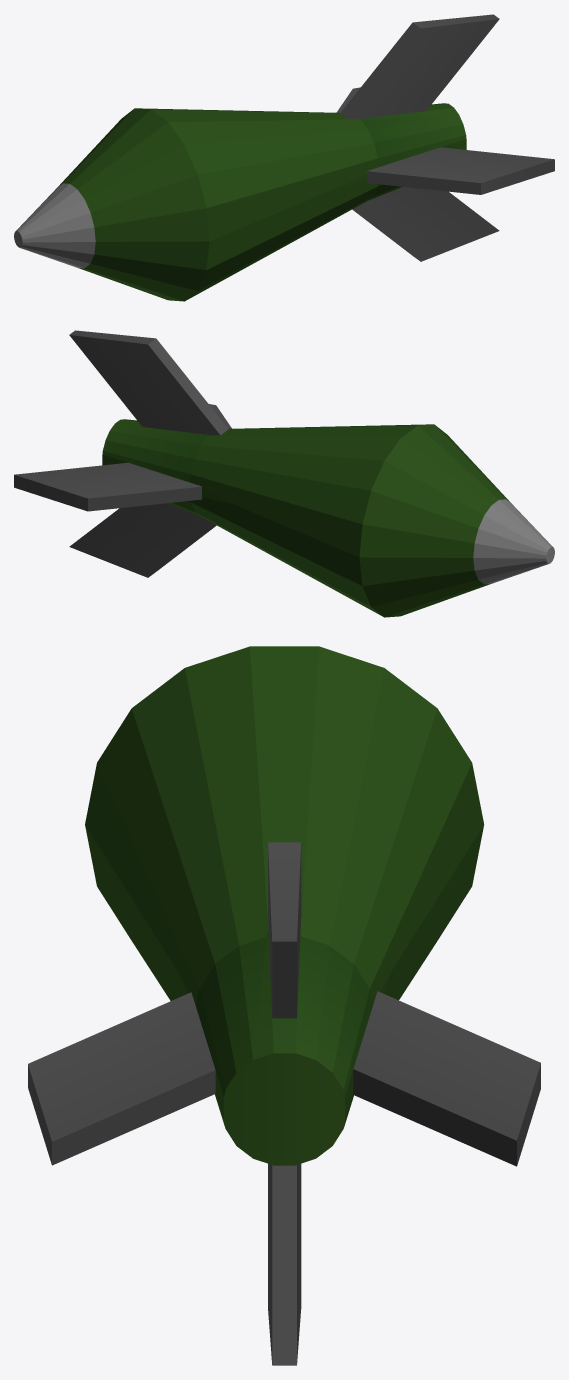
File: bullet of bazoka.fbx
3 views of the same model, one above another, from view 1: azimuth 30°, elevation 25°; view 2: azimuth 150°, elevation 25°; view 3: azimuth 270°, elevation 25° (orthographic). The views are drawn at different scales.
Parts seen in each view (by area): view 1: bazoka; view 2: bazoka; view 3: bazoka.
Boxes of the visible parts, left/top/right/bottom form: bazoka: left=14, top=14, right=554, bottom=301; bazoka: left=14, top=330, right=554, bottom=617; bazoka: left=28, top=646, right=540, bottom=1365.
Size of the model in its own units: 112 by 52.18 by 51.97.
1 material, 1 textured.
